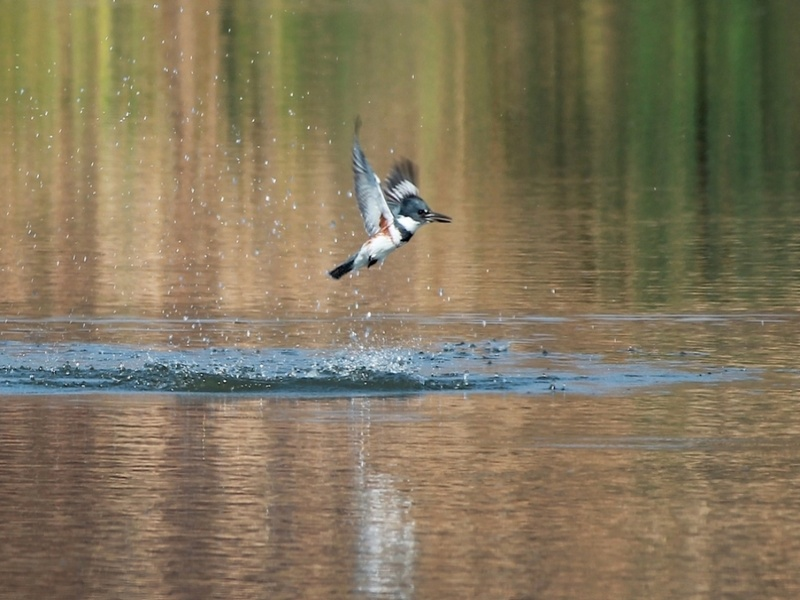kingfisher: (328, 139, 452, 282)
